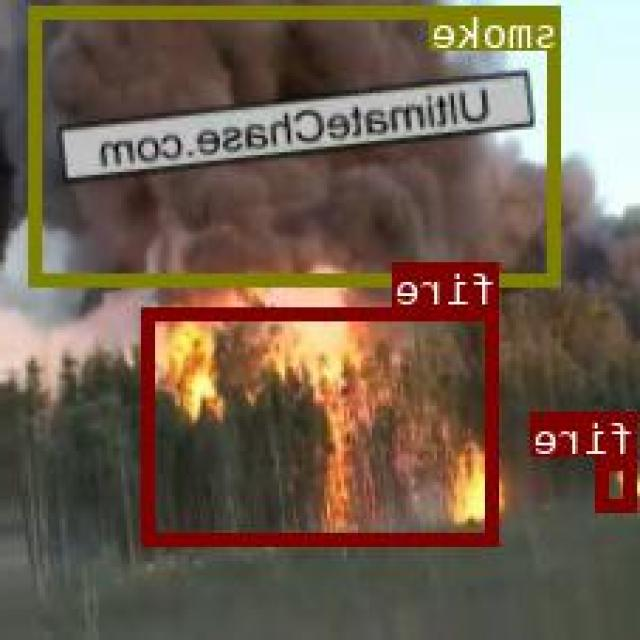fire: (145, 306, 502, 544), (599, 454, 640, 508)
smoke: (31, 4, 562, 284)
